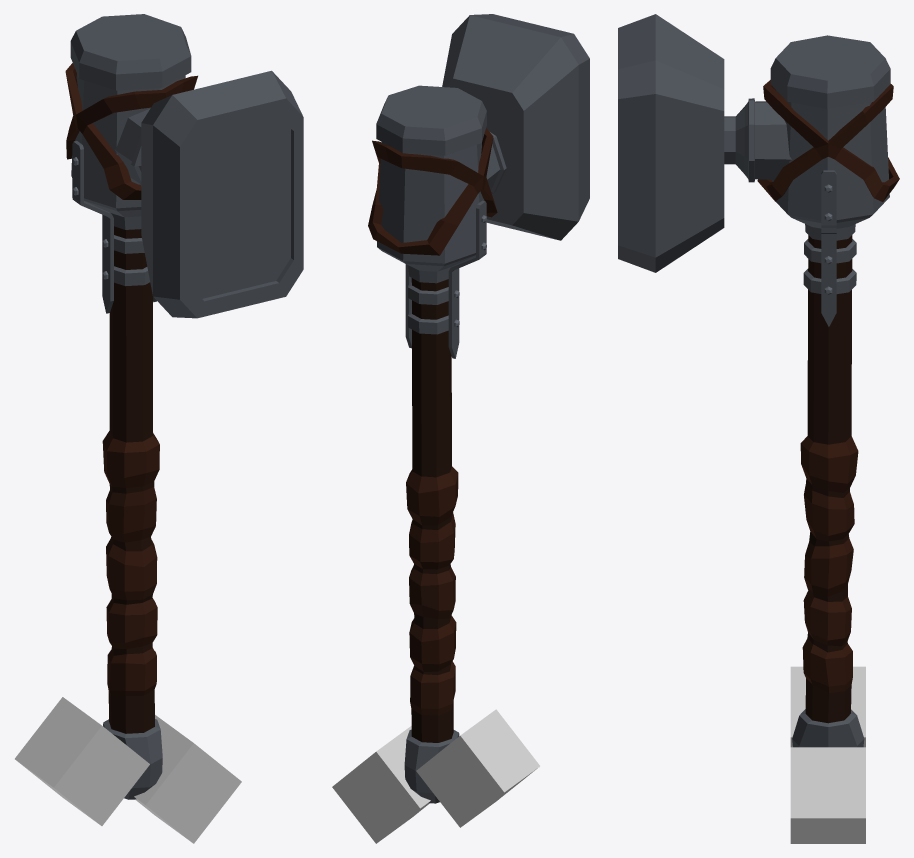
The model's file is hammer.obj.
The picture shows the model from 3 angles, left to right: view 1: azimuth 30°, elevation 25°; view 2: azimuth 150°, elevation 25°; view 3: azimuth 270°, elevation 25°; orthographic projection. The views are drawn at different scales.
Parts seen in each view (by area): view 1: Hammer_small_Cylinder.013; view 2: Hammer_small_Cylinder.013; view 3: Hammer_small_Cylinder.013.
Boxes of the visible parts, bbox=[...] form: Hammer_small_Cylinder.013: bbox=[15, 14, 303, 843]; Hammer_small_Cylinder.013: bbox=[332, 14, 589, 843]; Hammer_small_Cylinder.013: bbox=[618, 14, 899, 843].
Size of the model in its own units: 1.38 by 5.77 by 1.87.
